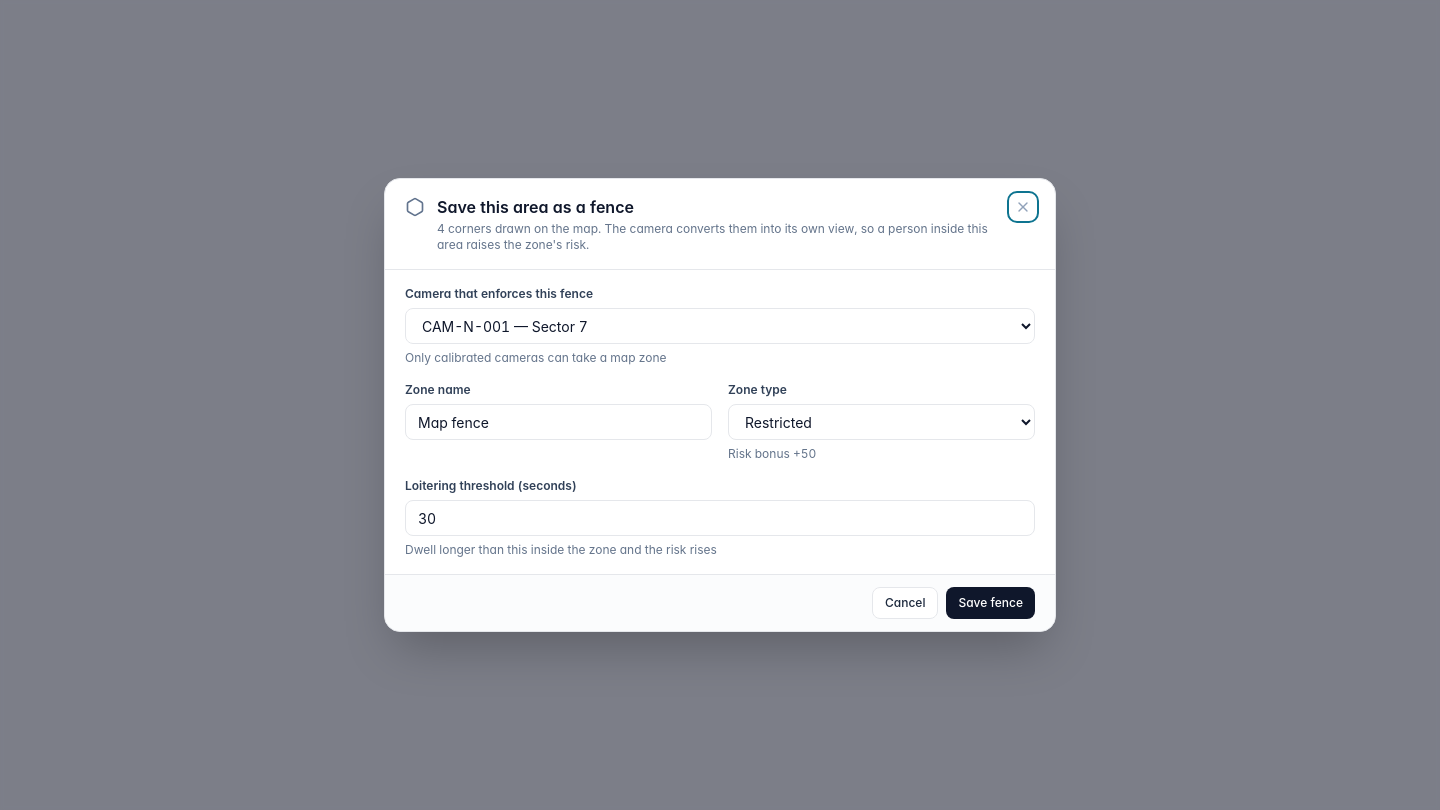
Scenario: MapZoneDialog › shows the server refusal (camera cannot see that area)
This screenshot has width=1440, height=810.
Click the button with test id "save-map-zone": (991,603) [946,587,1035,619]
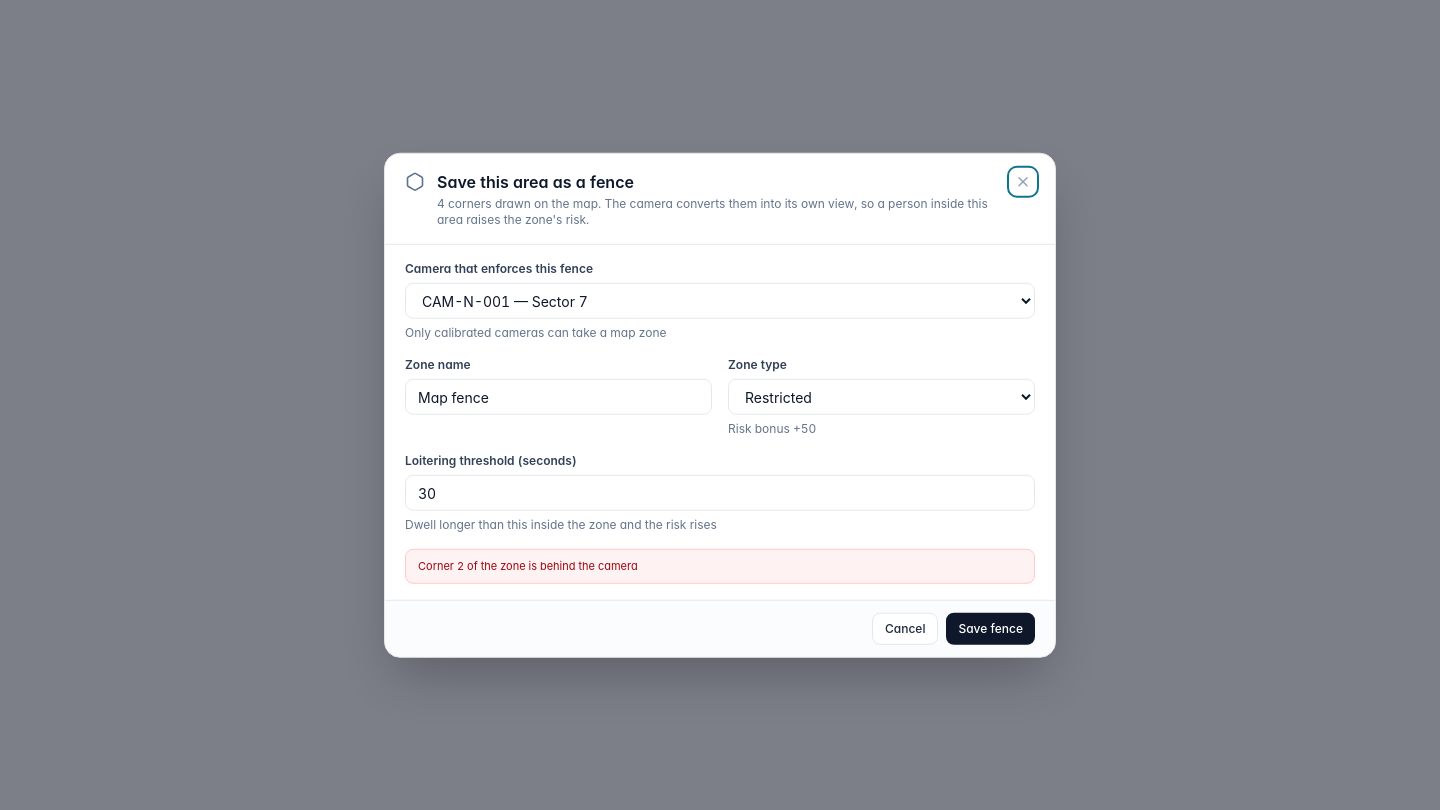
Result: the message with test id "map-zone-error" shows "behind the camera" at [418,559,638,573]
